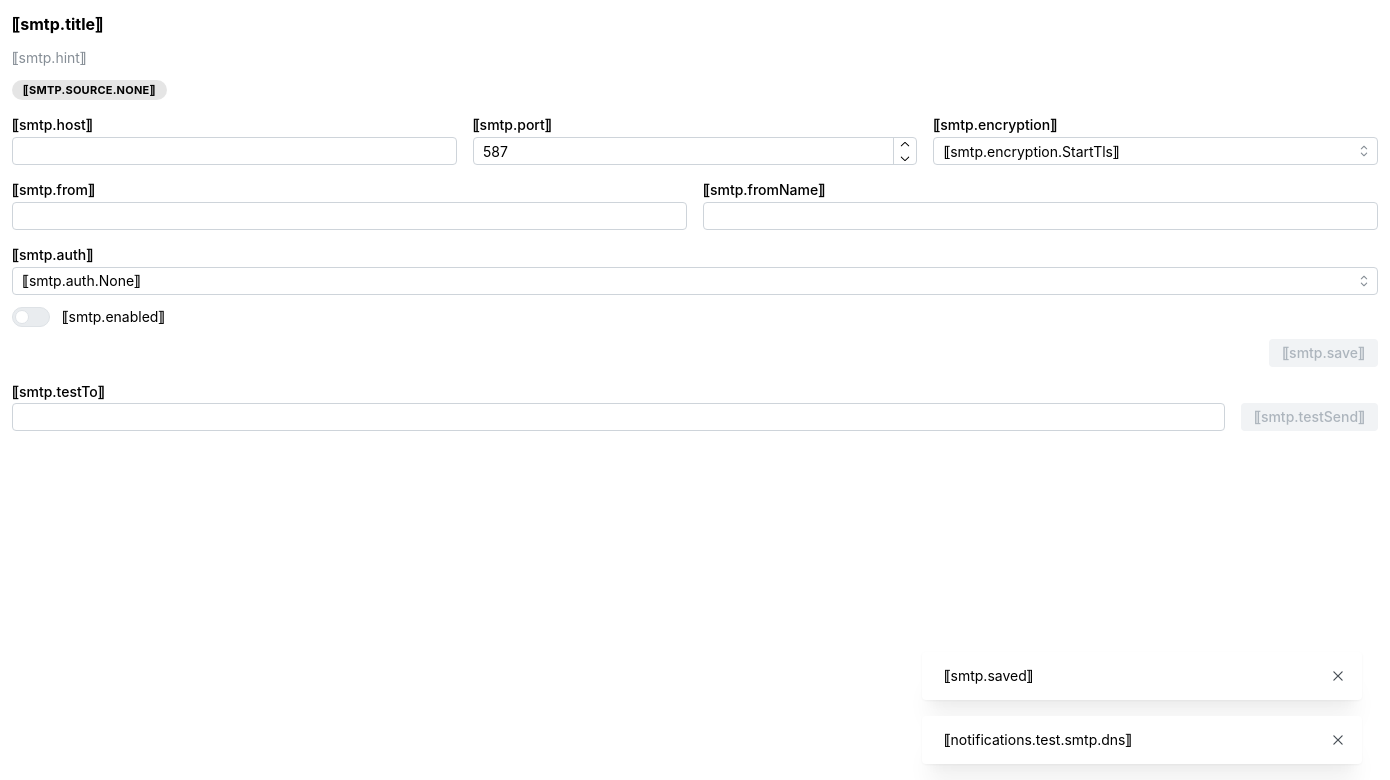
SmtpSettingsPanel — стани › відмова проби без відомої категорії — загальне «канал відхилив», сирий текст транспорту не показано
Type "me@corp.example" into the field labelled "⟦smtp.testTo⟧" at (618, 418), box [12,404,1225,432]
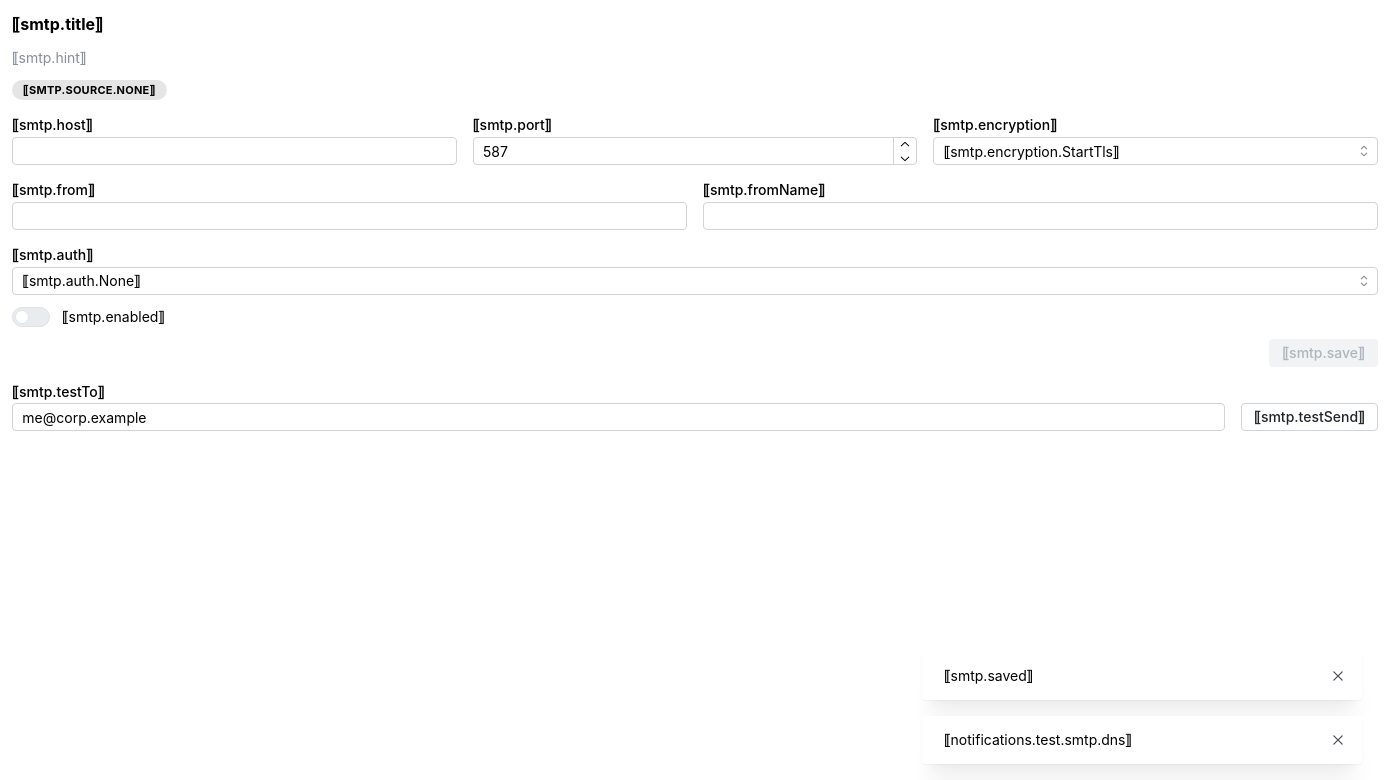
Click the button "⟦smtp.testSend⟧" at (1309, 418), box [1241,404,1378,432]
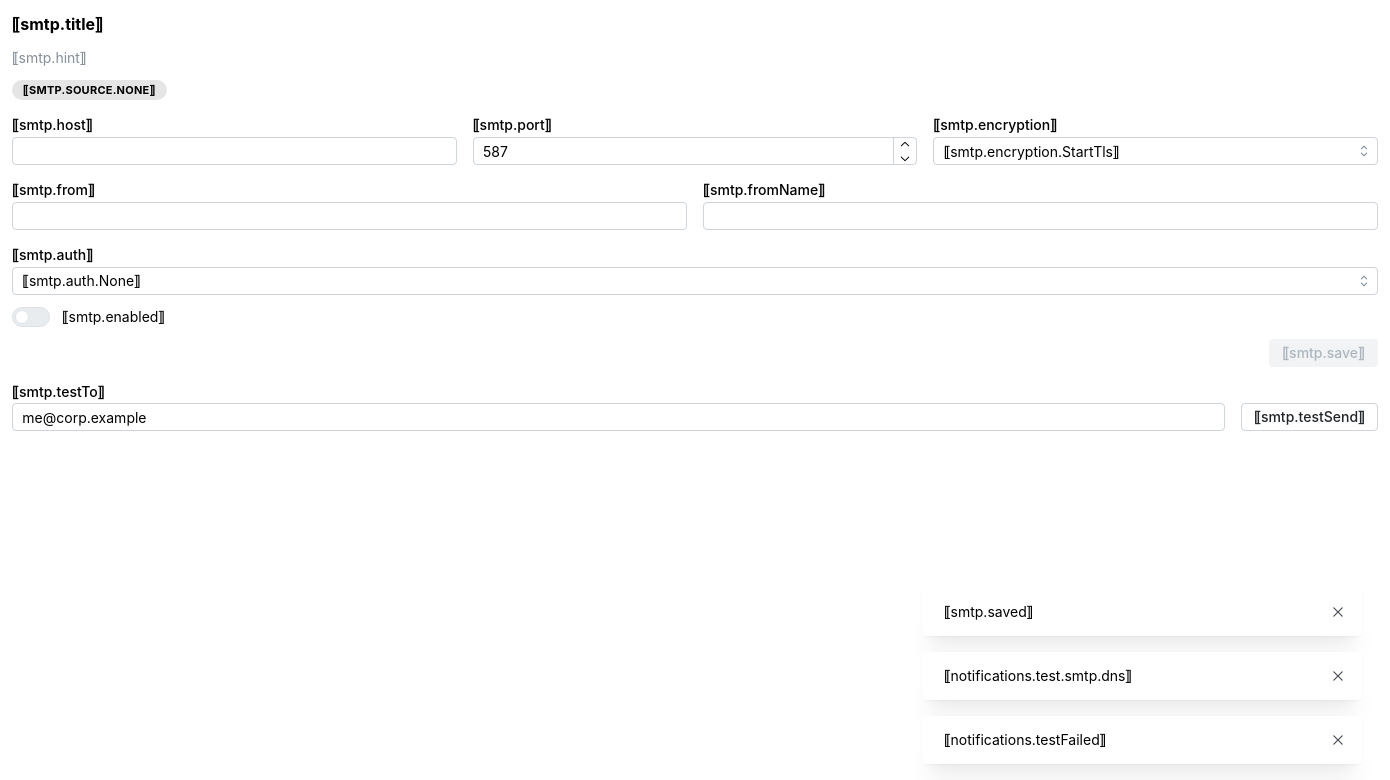
Check: the text "⟦notifications.testFailed⟧" is shown, box [944,731,1106,748]
